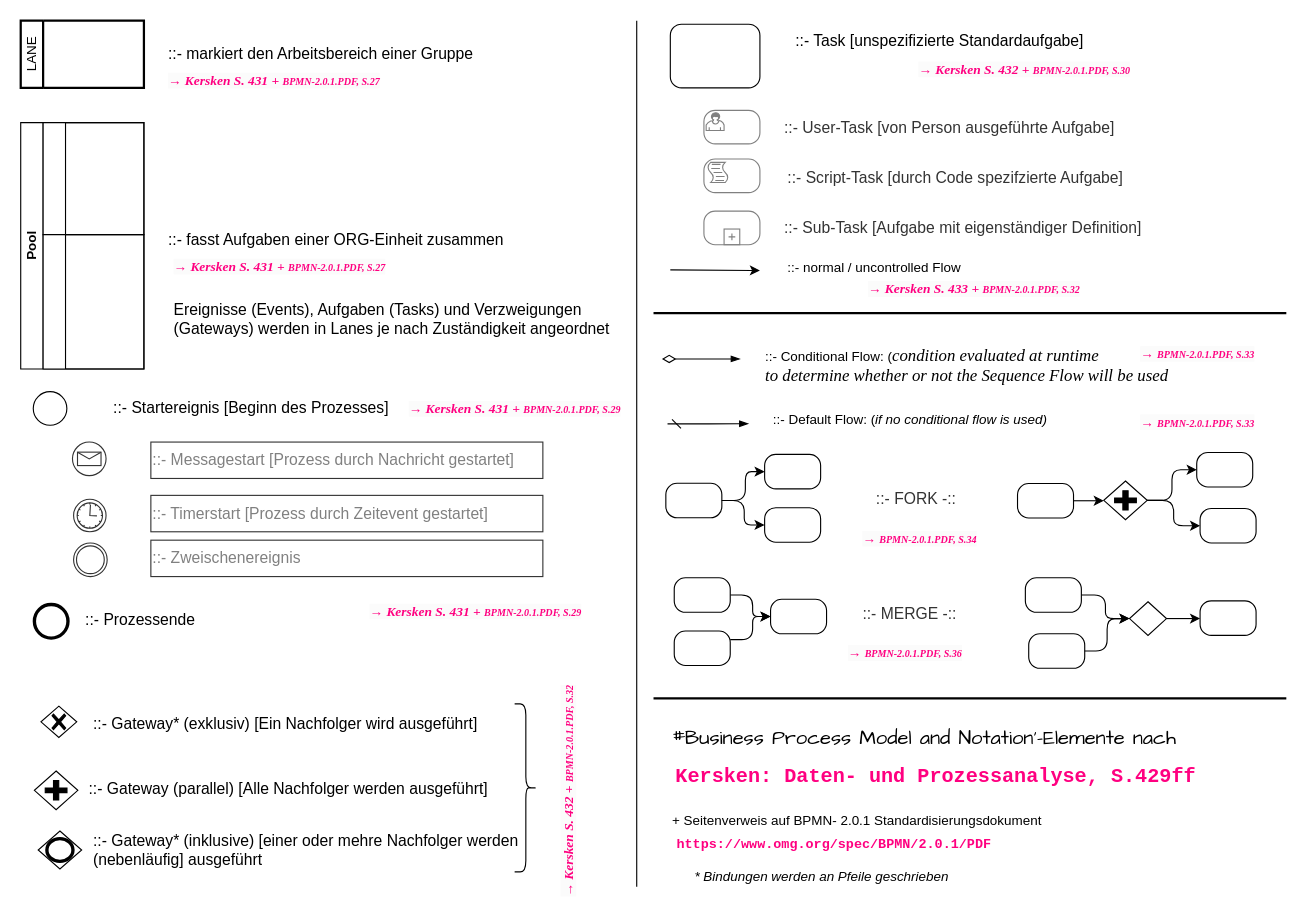
Some shapes in this 1306 by 918 pixel diagram are drawn without their labels. Each missing label, with the box of its shape:
Lane 1: (42, 122, 144, 235)
Lane 2: (42, 234, 144, 369)
